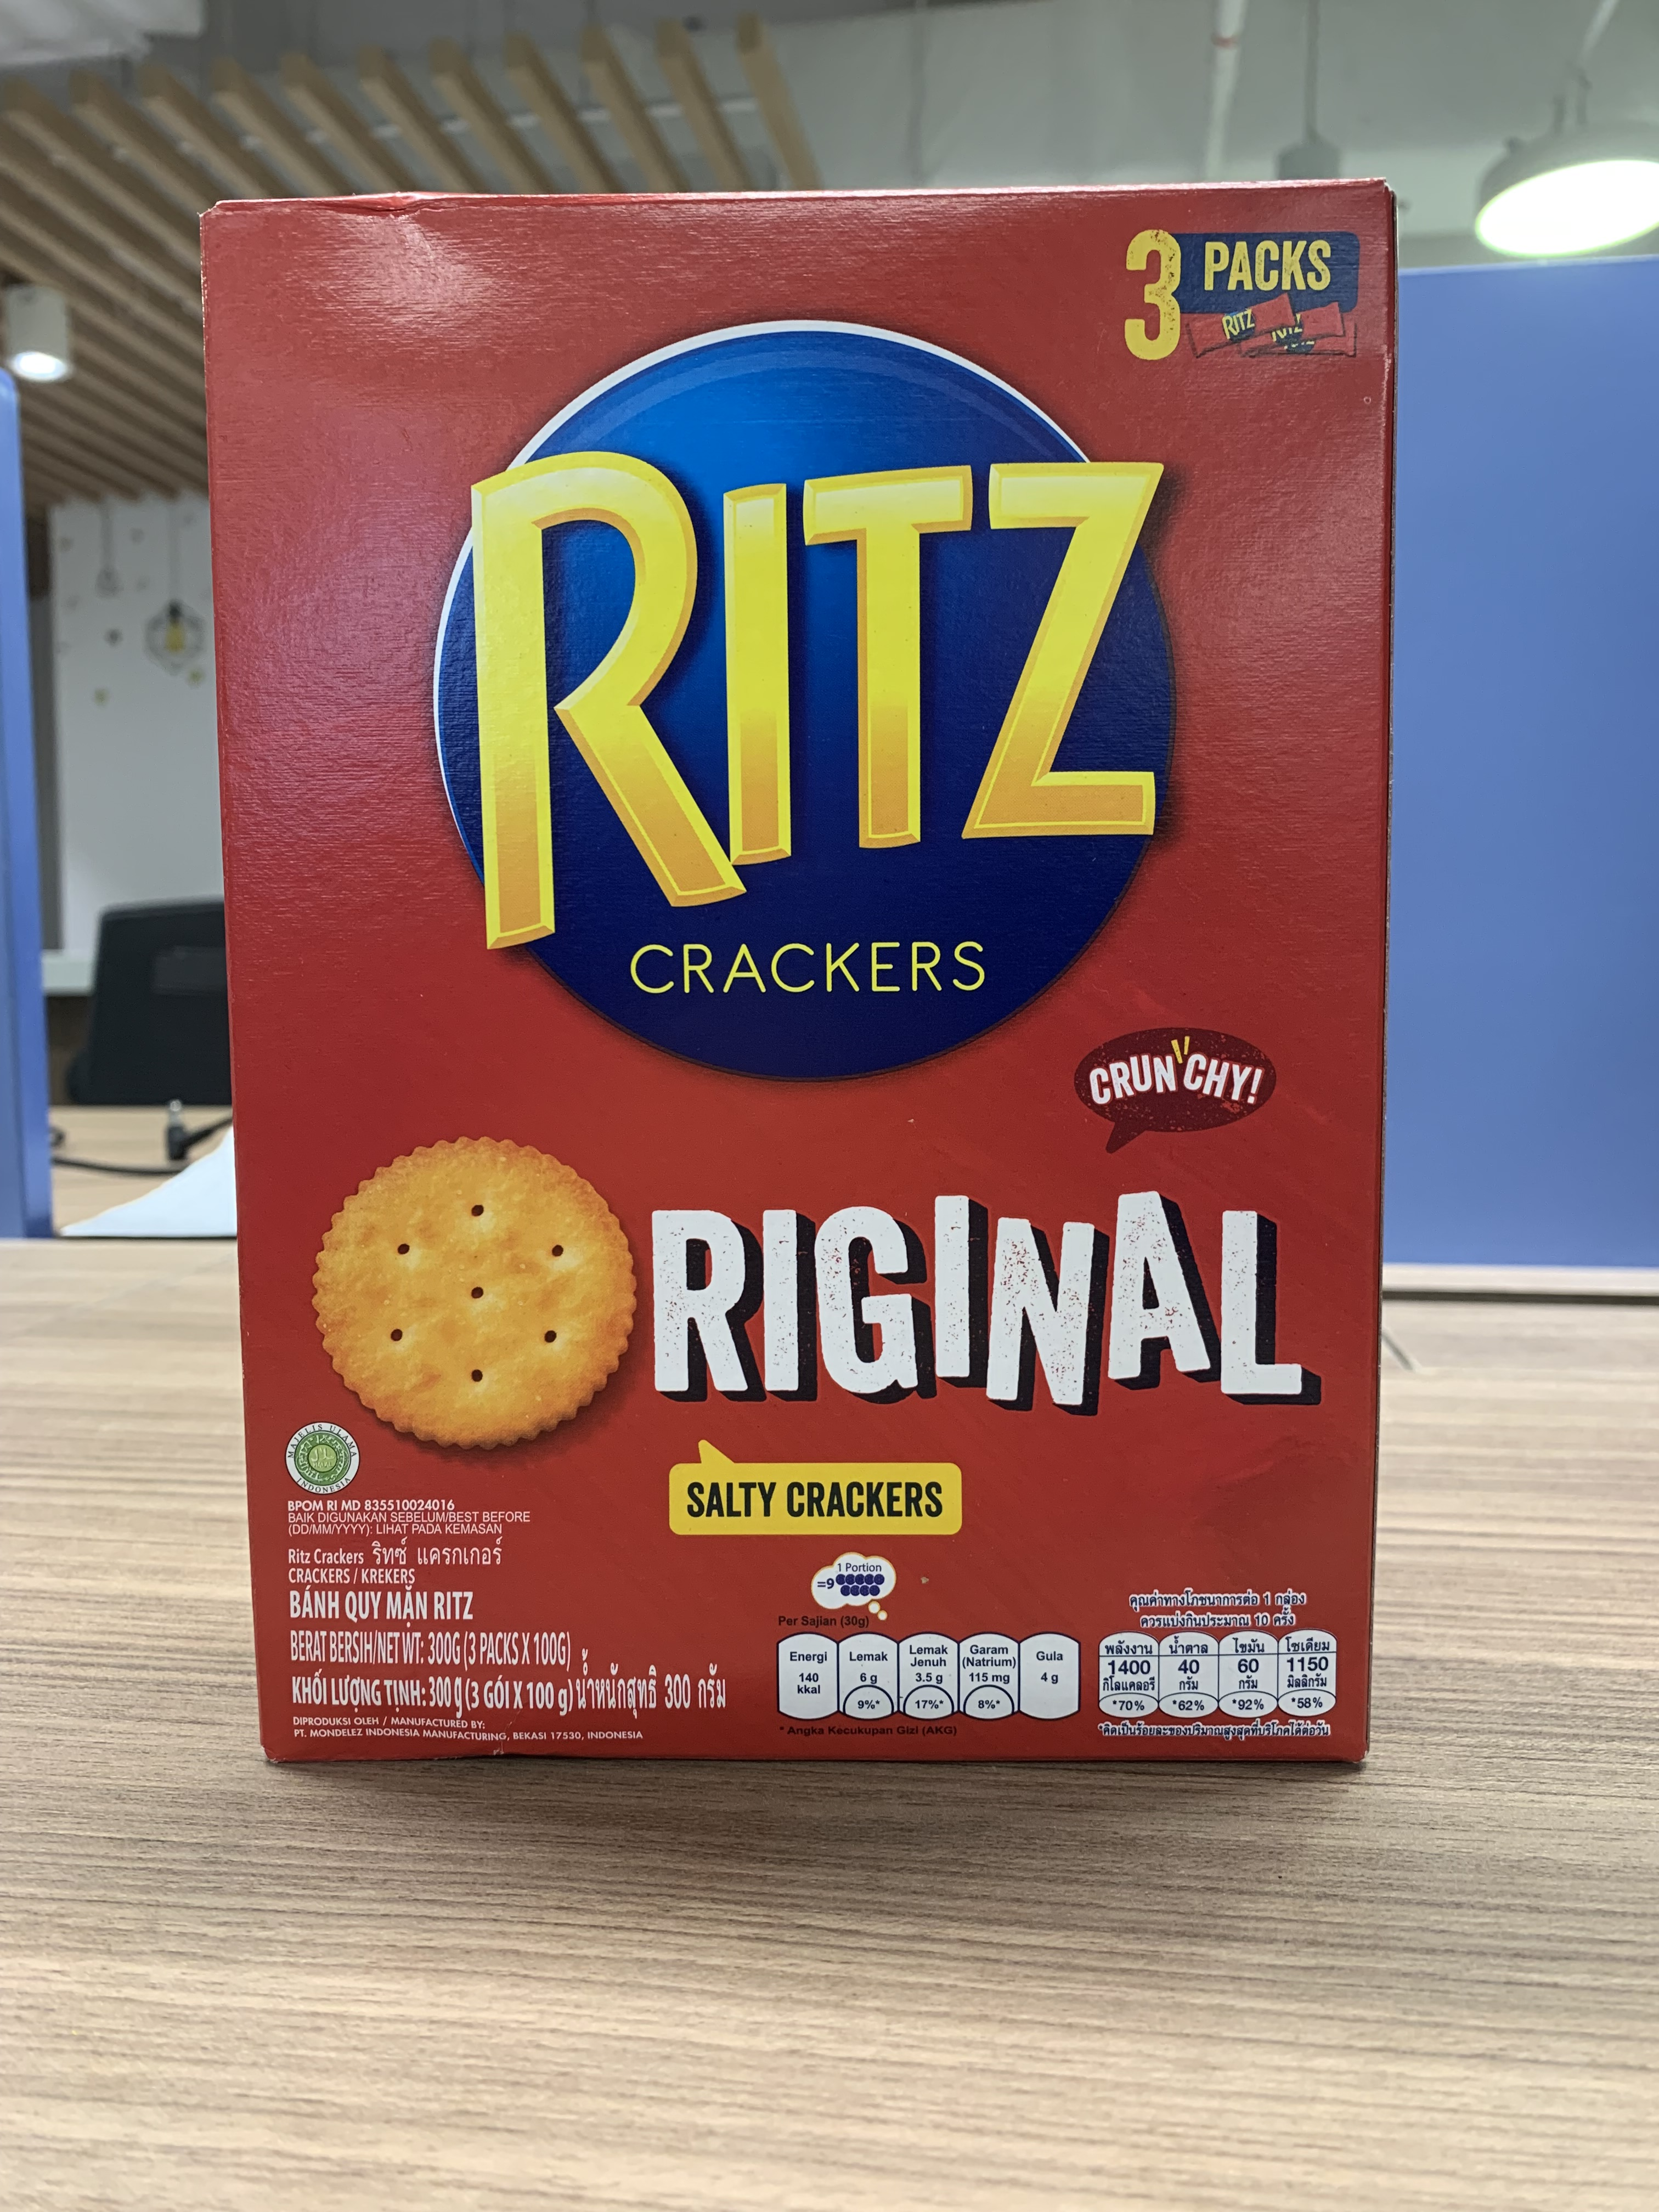halal: (286, 1425, 356, 1494)
